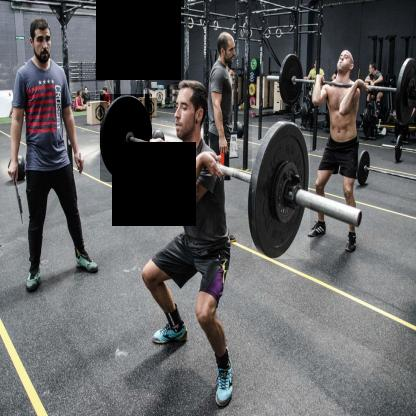barbell: (253, 123, 311, 260), (101, 95, 153, 183)
